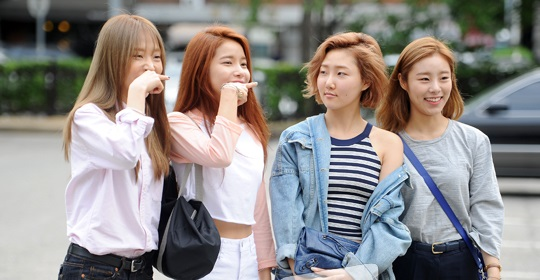face: (119, 37, 164, 96), (316, 52, 357, 109), (411, 60, 453, 112), (211, 43, 251, 97)
